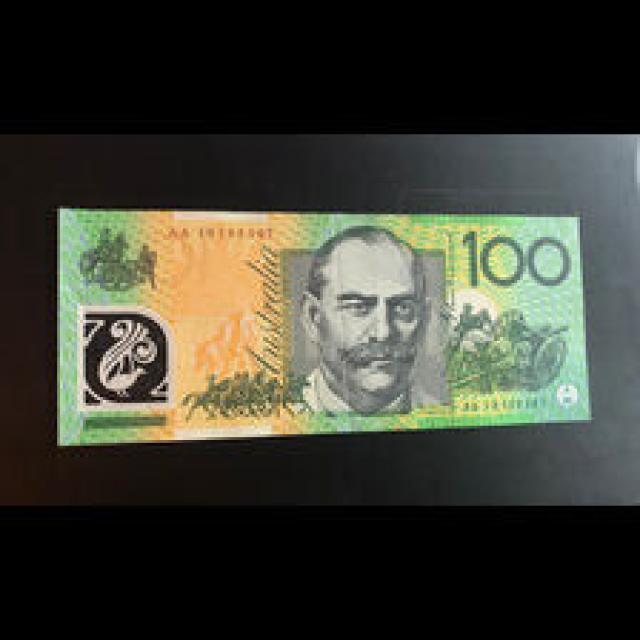banknote: (51, 203, 592, 446)
